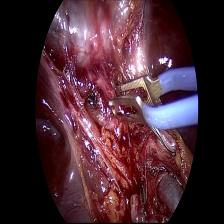Bipolar: (108, 64, 199, 136)
